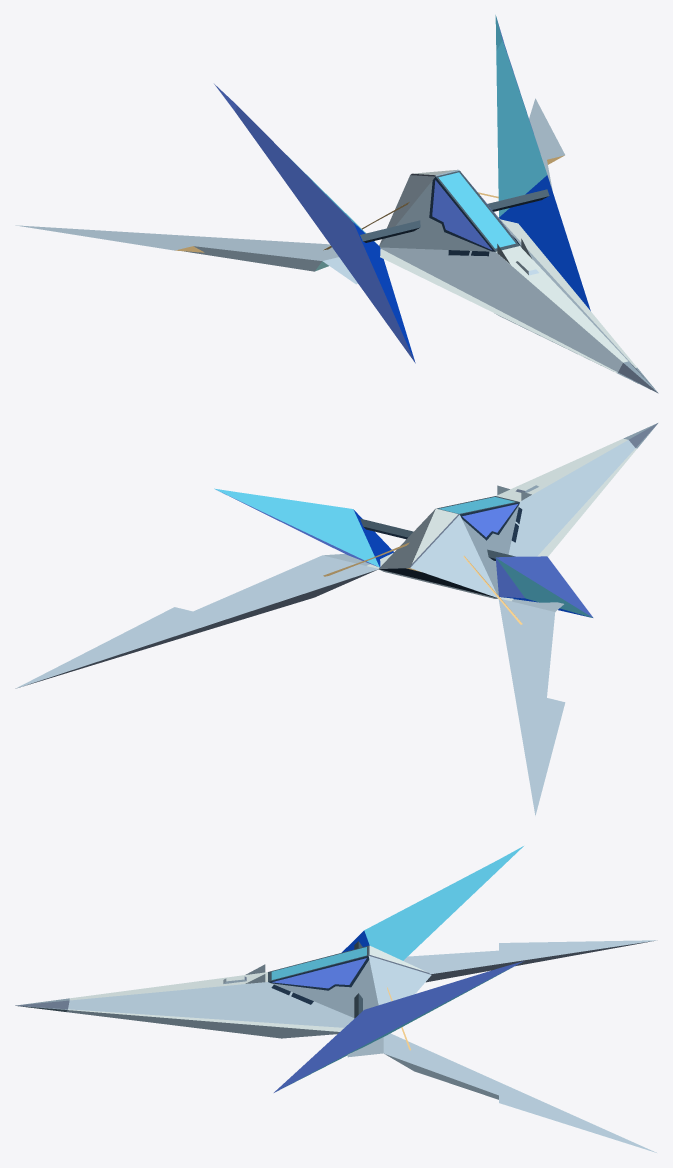
Rendered from arwinghigh.glb.
3 views of the same model, one above another, from view 1: azimuth 30°, elevation 25°; view 2: azimuth 150°, elevation 25°; view 3: azimuth 270°, elevation 25° (orthographic). The views are drawn at different scales.
Parts seen in each view (by area): view 1: Plane, Plane.001_Plane.004; view 2: Plane, Plane.001_Plane.004; view 3: Plane, Plane.001_Plane.004.
Part boxes in pixels (box(x1,y1,x2,y2)): Plane: box(15, 15, 658, 393); Plane.001_Plane.004: box(429, 170, 519, 251); Plane: box(15, 423, 657, 815); Plane.001_Plane.004: box(436, 496, 519, 540); Plane: box(15, 846, 656, 1152); Plane.001_Plane.004: box(268, 946, 369, 990).
Size of the model in its own units: 10.4 by 3.5 by 13.28.
1 material, 1 textured.
